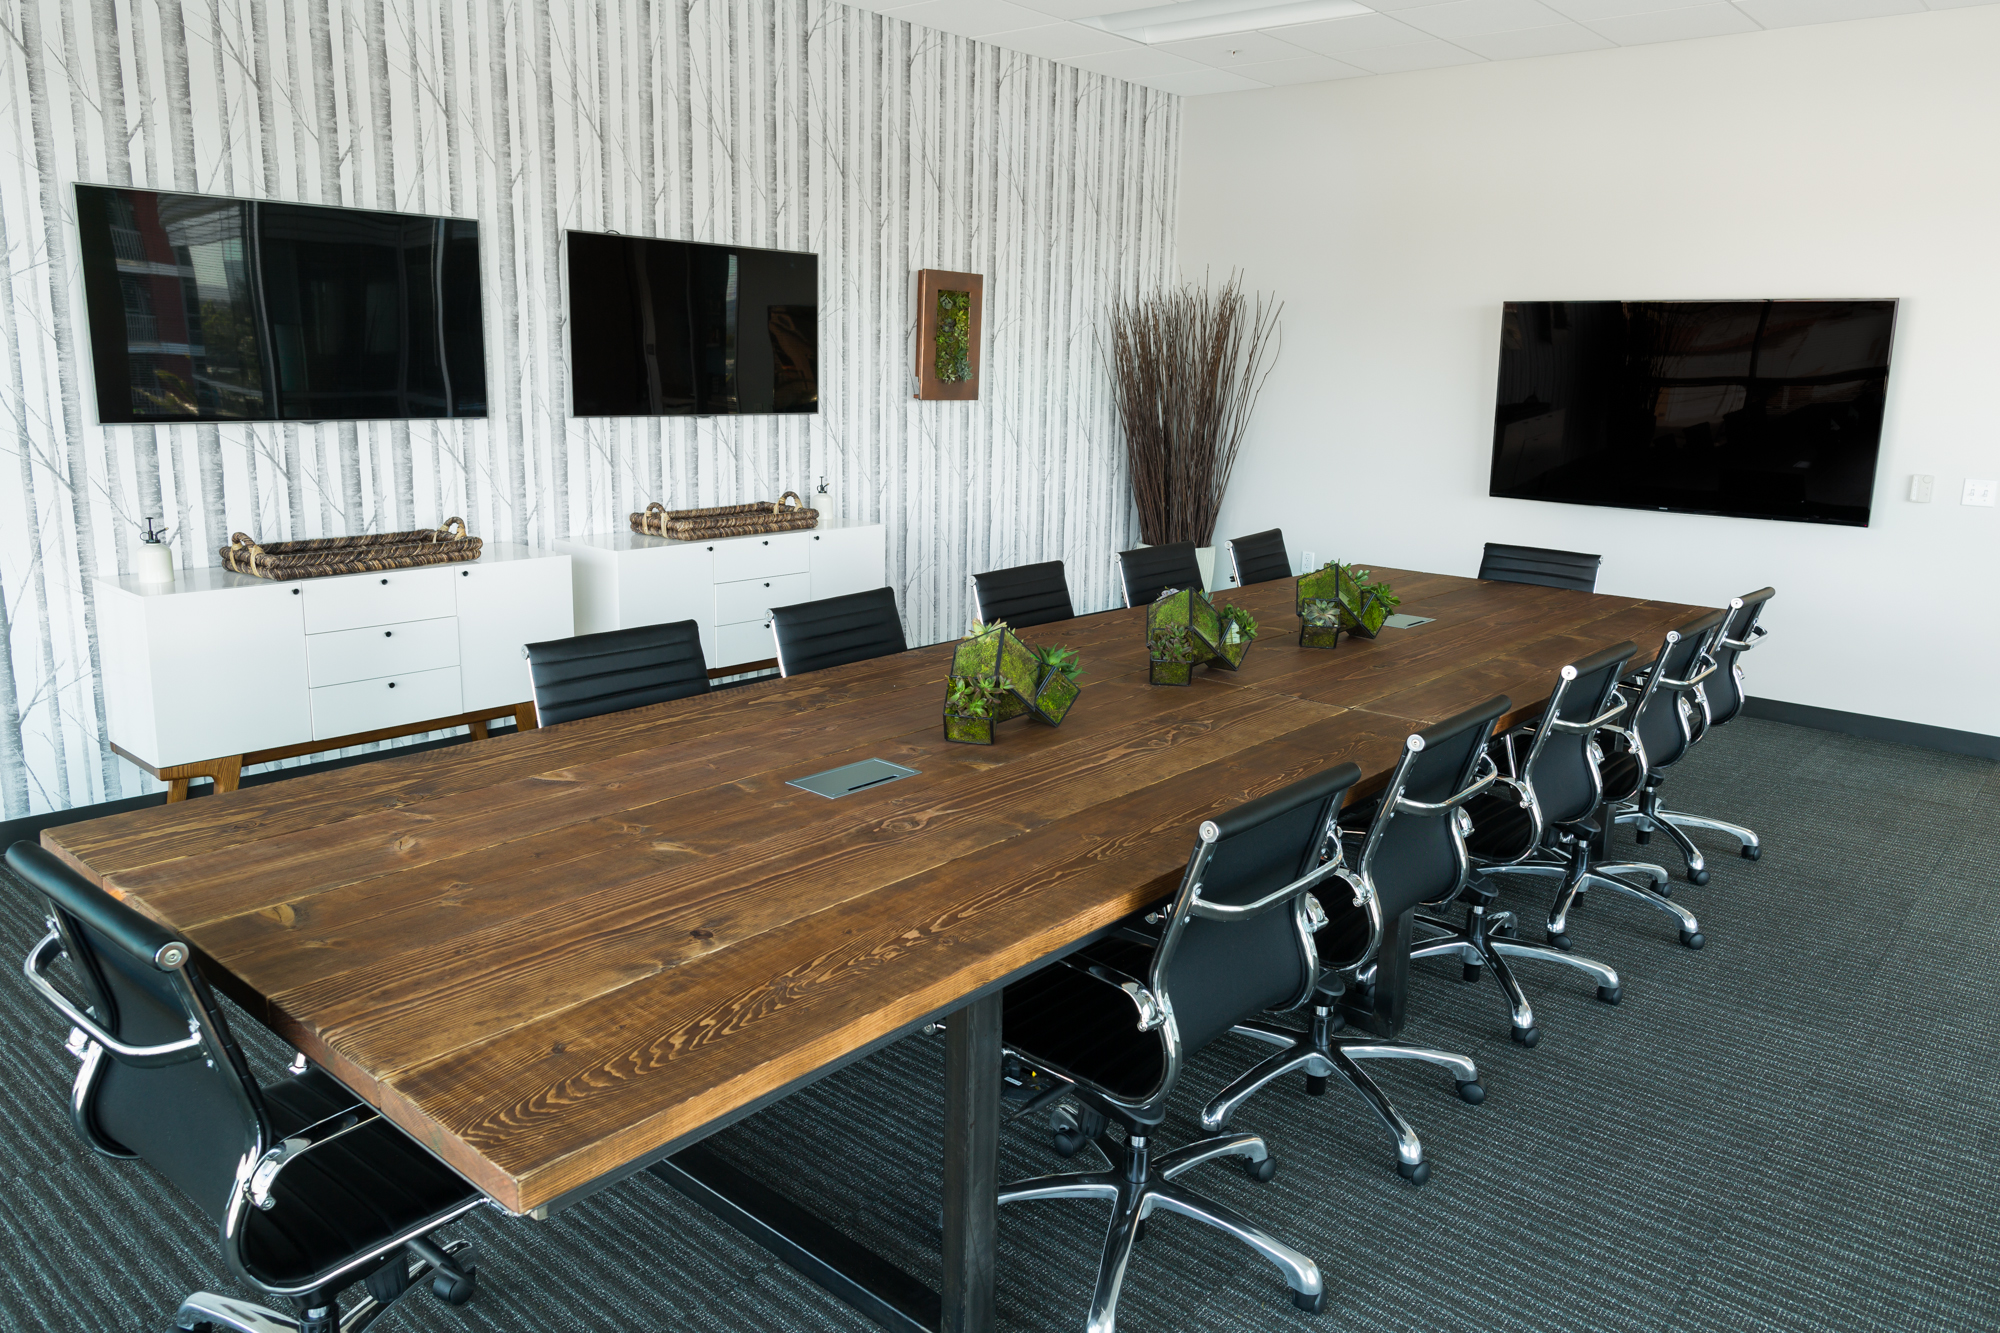conference_table: (41, 559, 1739, 1333)
